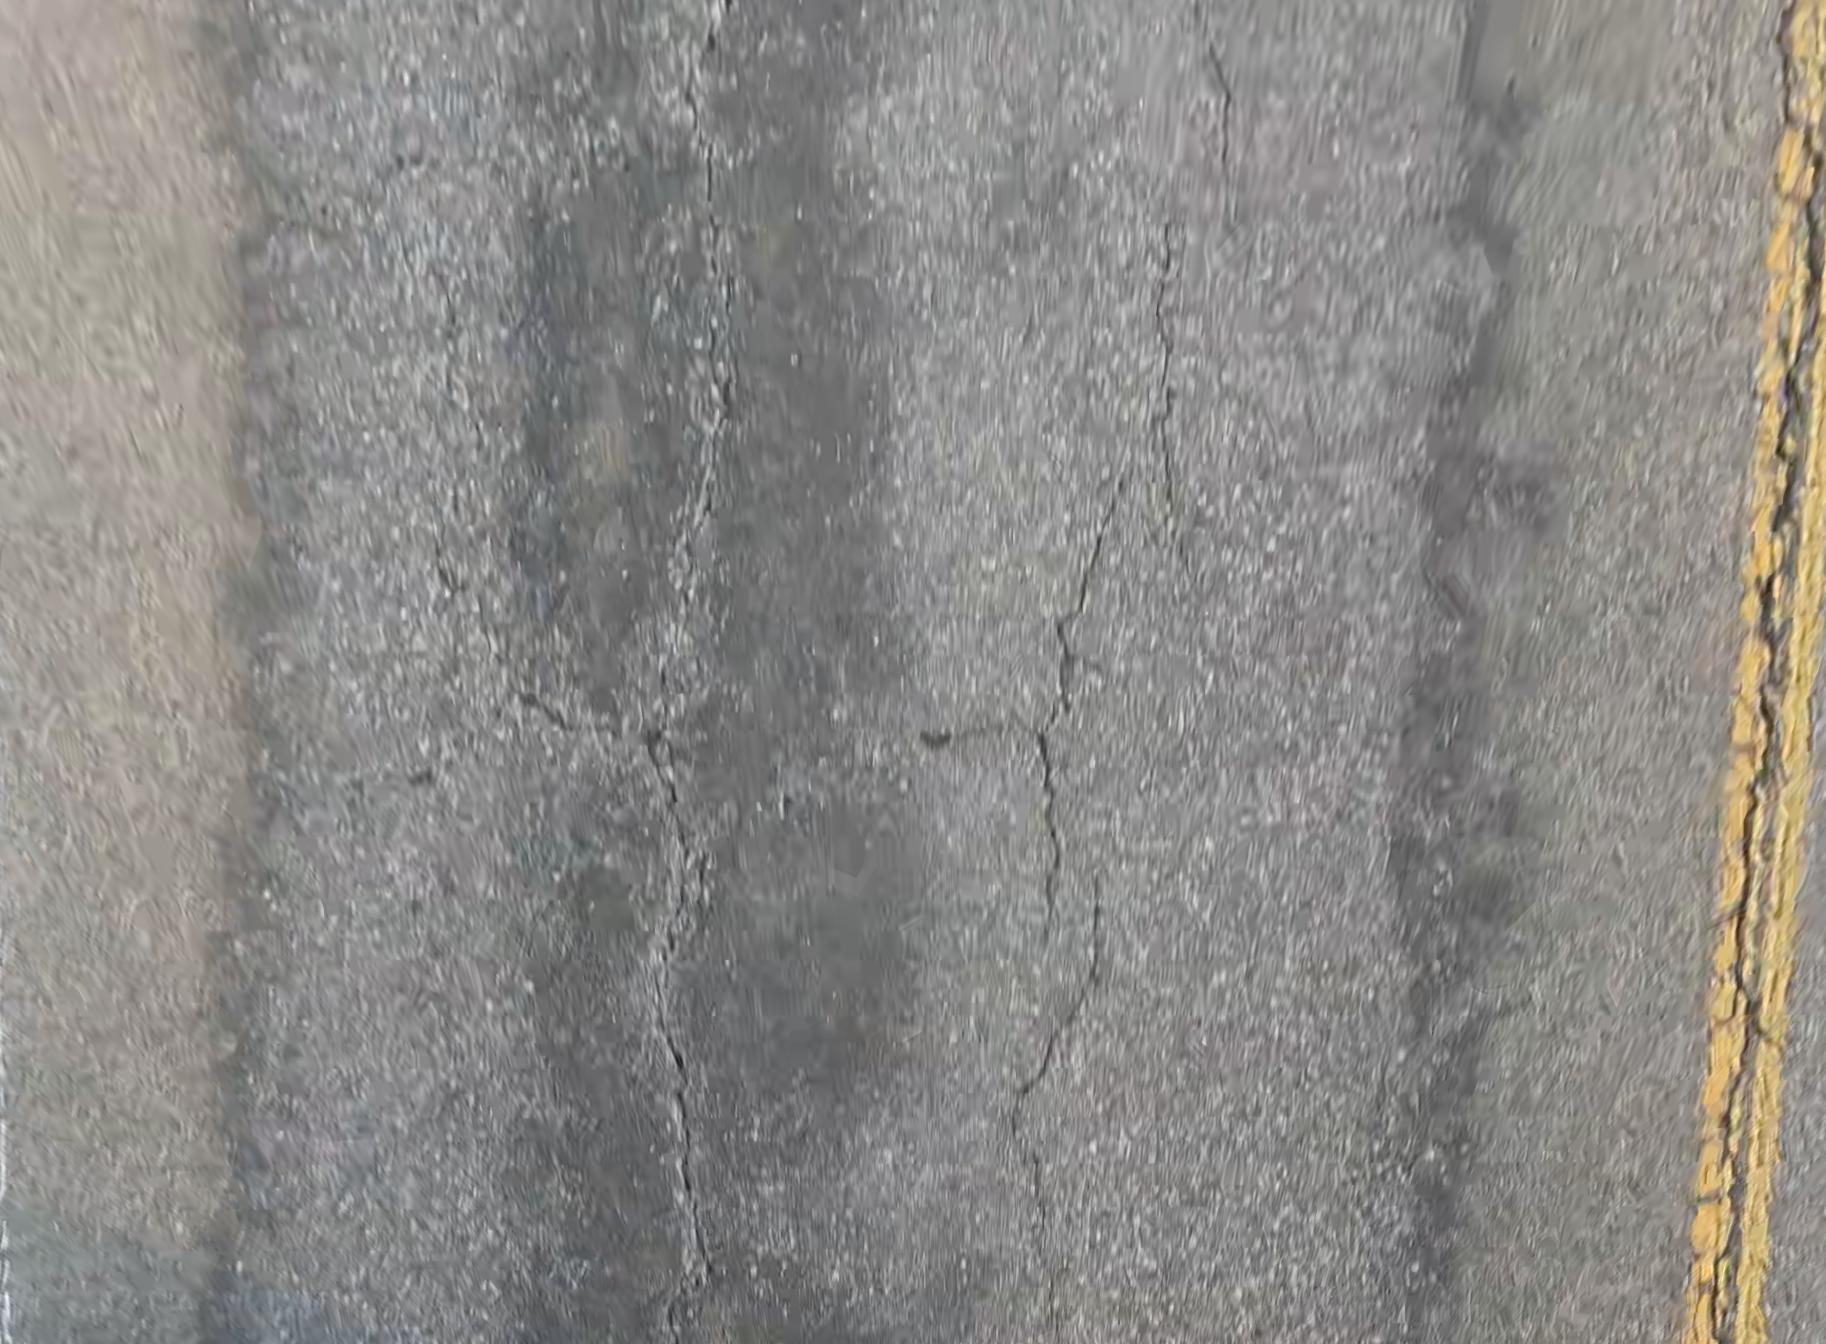pothole_patch_poor: (230, 1, 914, 1341)
